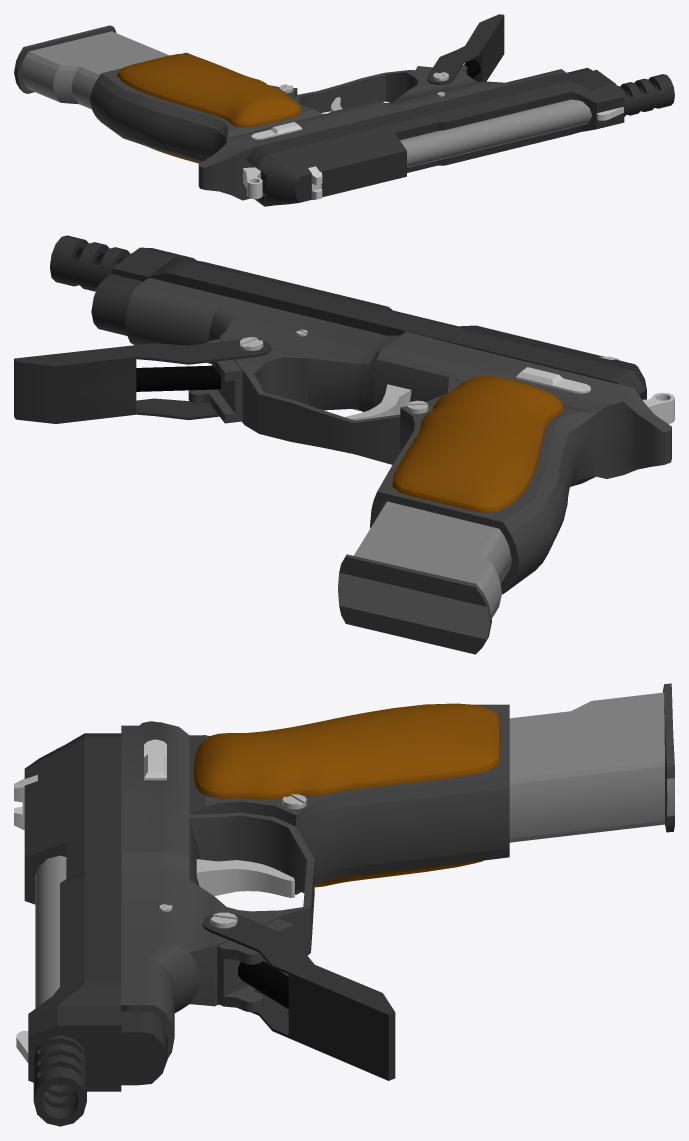
File: baretta_93r.glb
3 views of the same model, one above another, from view 1: azimuth 30°, elevation 25°; view 2: azimuth 150°, elevation 25°; view 3: azimuth 270°, elevation 25° (orthographic). The views are drawn at different scales.
Parts seen in each view (by area): view 1: Baretta_93_R; view 2: Baretta_93_R; view 3: Baretta_93_R.
Part boxes in pixels (x1=…): Baretta_93_R: x1=14, y1=14, x2=674, y2=206; Baretta_93_R: x1=14, y1=235, x2=674, y2=654; Baretta_93_R: x1=14, y1=683, x2=674, y2=1126.
Size of the model in its own units: 11.97 by 1.97 by 8.62.
2 materials, 2 textured.
